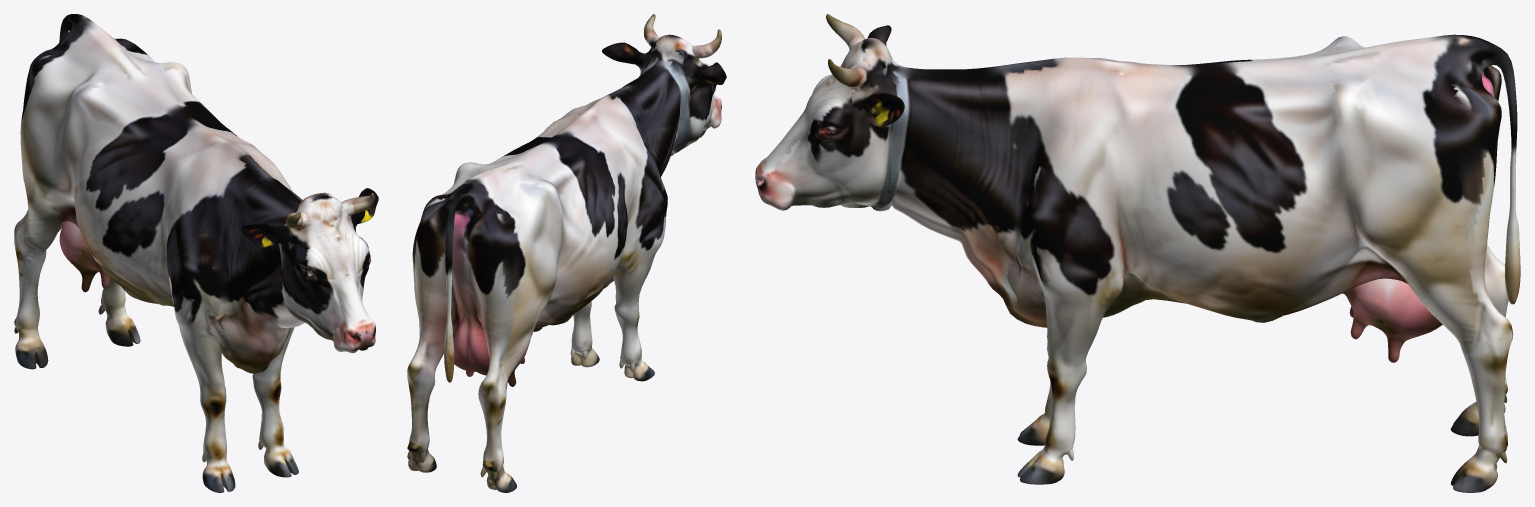
Rendered from cow.glb.
3 renders of one model, left to right at view 1: azimuth 30°, elevation 25°; view 2: azimuth 150°, elevation 25°; view 3: azimuth 270°, elevation 25°, orthographic. The views are drawn at different scales.
Parts seen in each view (by area): view 1: Cow_Body_material43_0.002; view 2: Cow_Body_material43_0.002; view 3: Cow_Body_material43_0.002.
Part boxes in pixels (bbox=[...]): Cow_Body_material43_0.002: bbox=[14, 14, 378, 492]; Cow_Body_material43_0.002: bbox=[407, 14, 726, 492]; Cow_Body_material43_0.002: bbox=[755, 14, 1520, 492].
Bounding box in the file's own units: 0.2878 × 0.6086 × 1.
1 material, 1 textured.
